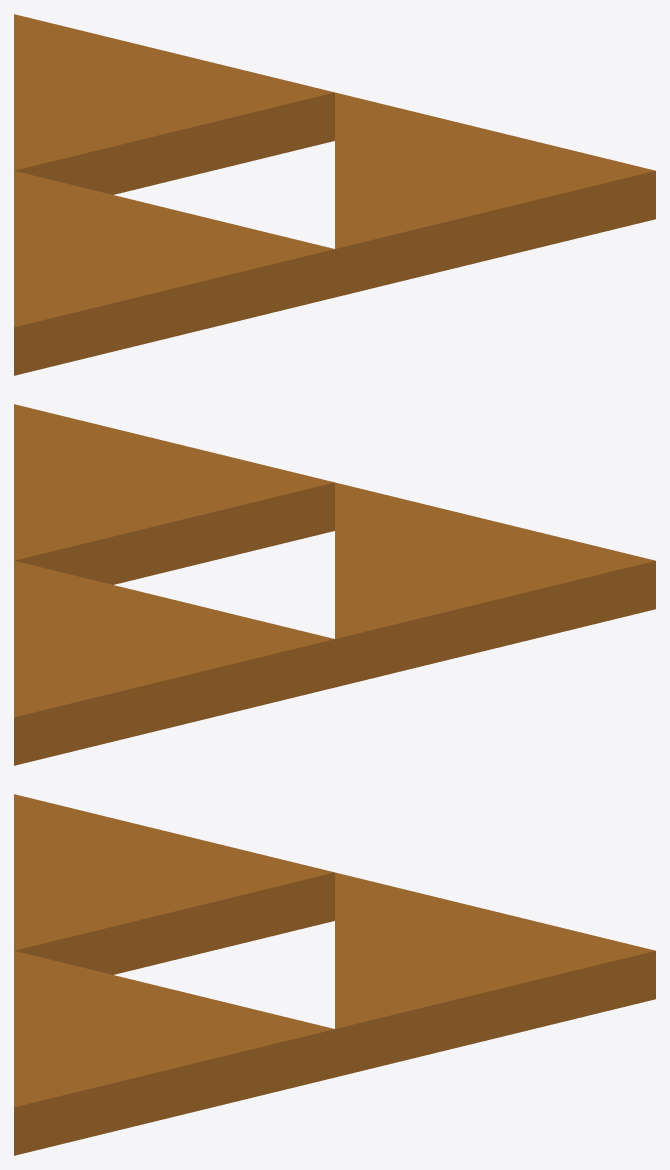
Rendered from gatton.glb.
The picture shows the model from 3 angles, top to bottom: view 1: azimuth 30°, elevation 25°; view 2: azimuth 150°, elevation 25°; view 3: azimuth 270°, elevation 25°; orthographic projection.
Parts seen in each view (by area): view 1: Cylinder.001, Cylinder.002, Cylinder; view 2: Cylinder.002, Cylinder, Cylinder.001; view 3: Cylinder, Cylinder.001, Cylinder.002.
Part boxes in pixels (<box>): Cylinder.001: <box>335,92,655,297</box>; Cylinder.002: <box>14,171,334,375</box>; Cylinder: <box>14,14,334,194</box>; Cylinder.002: <box>335,482,655,687</box>; Cylinder: <box>14,561,334,765</box>; Cylinder.001: <box>14,404,334,584</box>; Cylinder: <box>335,872,655,1077</box>; Cylinder.001: <box>14,951,334,1155</box>; Cylinder.002: <box>14,794,334,974</box>.
Bounding box in the file's own units: 3.46 × 0.25 × 3.
